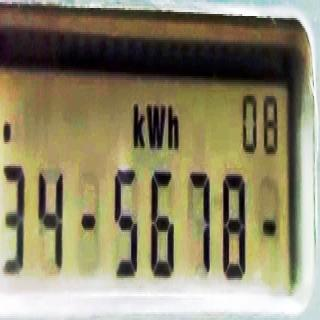-: (81, 204, 96, 242), (2, 118, 11, 150)
0: (241, 87, 259, 161)
3: (1, 160, 26, 283)
4: (36, 160, 66, 286)
5: (111, 155, 140, 289)
6: (147, 162, 177, 290)
7: (188, 162, 212, 280)
8: (220, 167, 248, 288), (262, 90, 279, 164)
